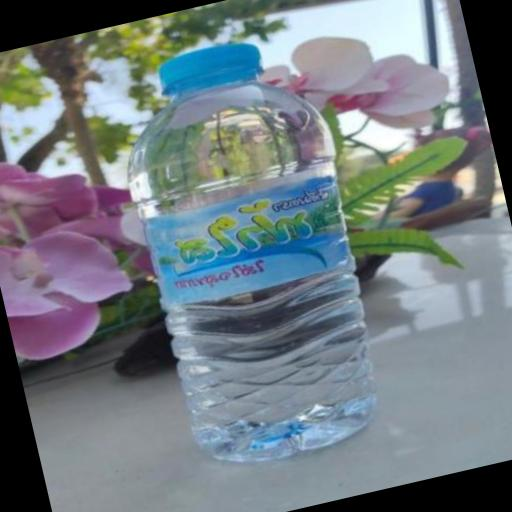Coca: (91, 16, 412, 492)
